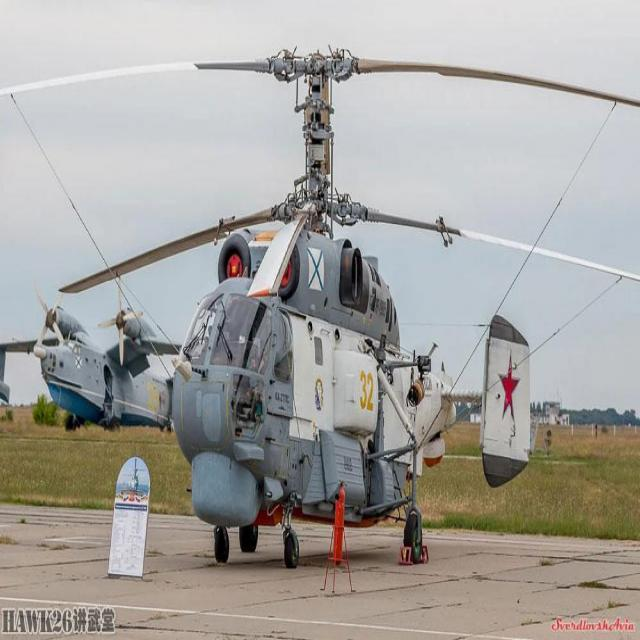MIL_HELO: (0, 39, 640, 578)
